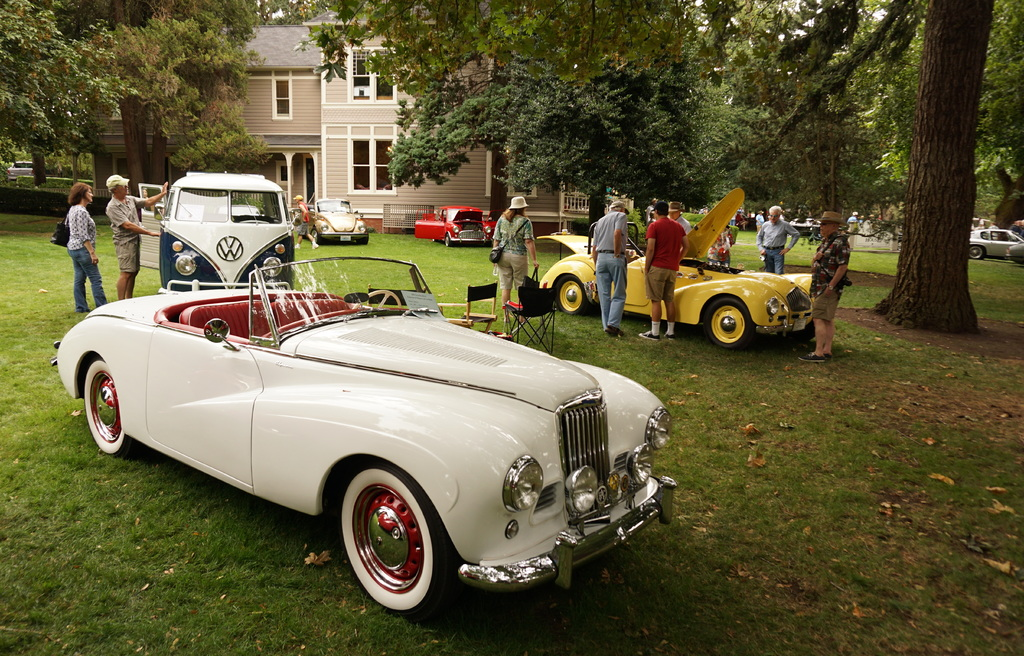mobil: (80, 277, 683, 603), (558, 242, 804, 351), (306, 193, 375, 249)
